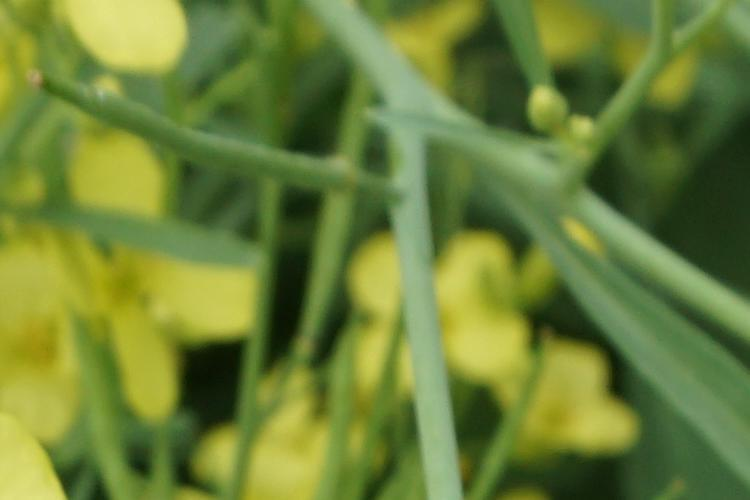bud: (520, 88, 570, 139), (560, 119, 603, 155)
pod: (26, 65, 395, 212)
